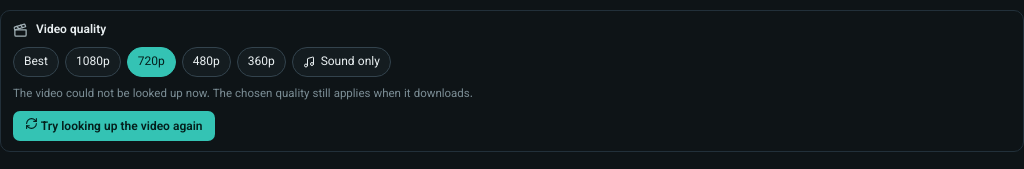
allows a failed network lookup to be retried without editing the link
Step 1. Click the button "Try looking up the video again" → x=114, y=126, box top-left (13, 111), bottom-right (214, 141)
Wait 500 ms
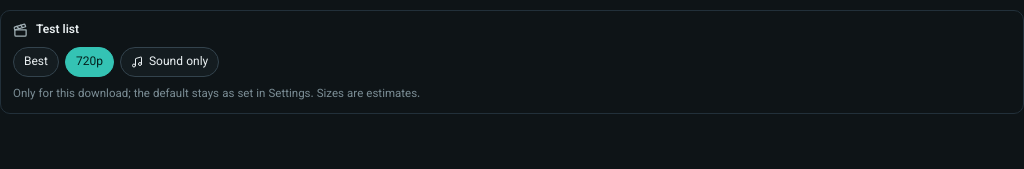
Check: the text "Test list" is shown, box top-left (36, 21), bottom-right (79, 39)
